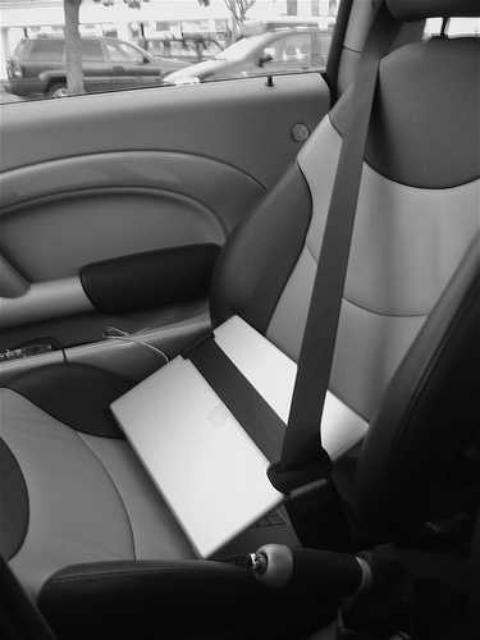Seatbelt: (178, 11, 400, 541)
